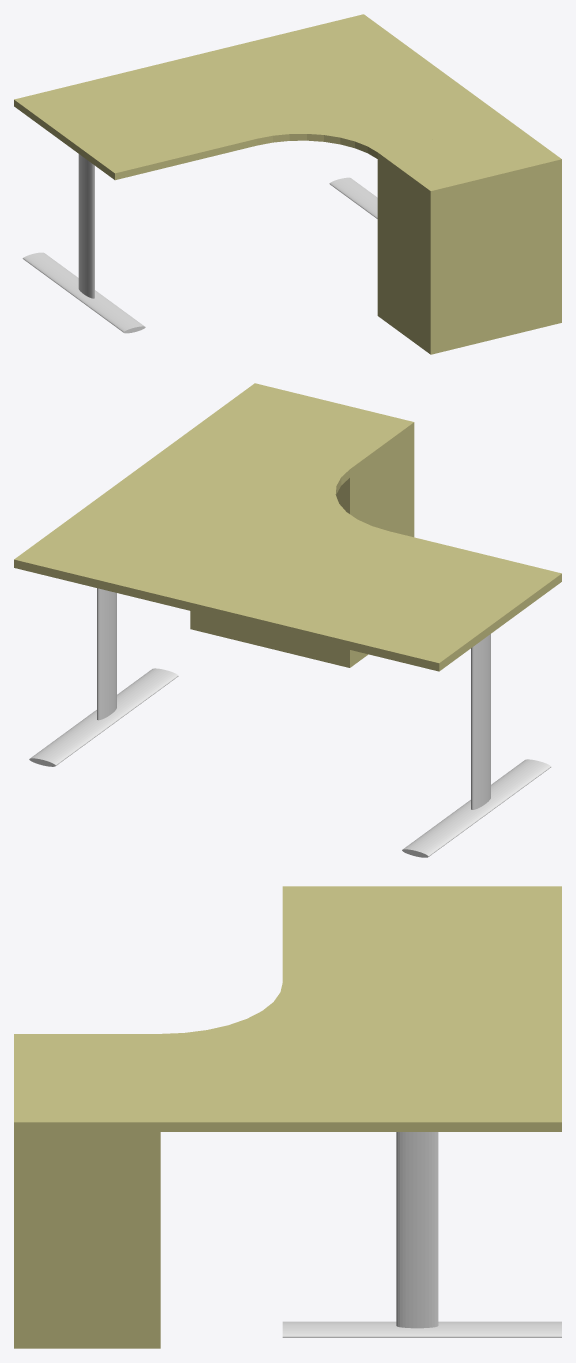
Rendered from desk_left.dae.
3 renders of one model, top to bottom at view 1: azimuth 30°, elevation 25°; view 2: azimuth 150°, elevation 25°; view 3: azimuth 270°, elevation 25°, orthographic. The views are drawn at different scales.
Visible parts, largest first — view 1: desk_left, desk_left_Cube; view 2: desk_left, desk_left_Cube, desk_left_Cylinder; view 3: desk_left, desk_left_Cube, desk_left_Cylinder.
Part boxes in pixels (x1,y1,x2,y2): desk_left: (14, 46, 561, 354); desk_left_Cube: (233, 14, 508, 152); desk_left: (29, 383, 561, 857); desk_left_Cube: (14, 430, 349, 606); desk_left_Cylinder: (97, 588, 116, 720); desk_left: (14, 886, 561, 1348); desk_left_Cube: (160, 1034, 561, 1131); desk_left_Cylinder: (396, 1132, 438, 1328).
Bounding box in the file's own units: 1.6 × 1.57 × 0.715.
